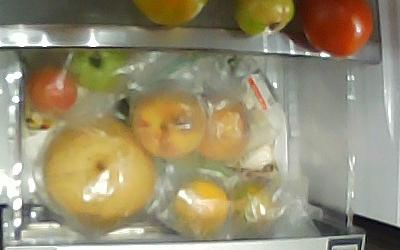peach_vinyl: (132, 89, 208, 159), (197, 101, 250, 161)
pear_vinyl: (44, 116, 156, 223)
tangerine_vinyl: (175, 181, 230, 236), (229, 182, 277, 236)
tomato_vinyl: (71, 49, 125, 91), (27, 66, 76, 112)
